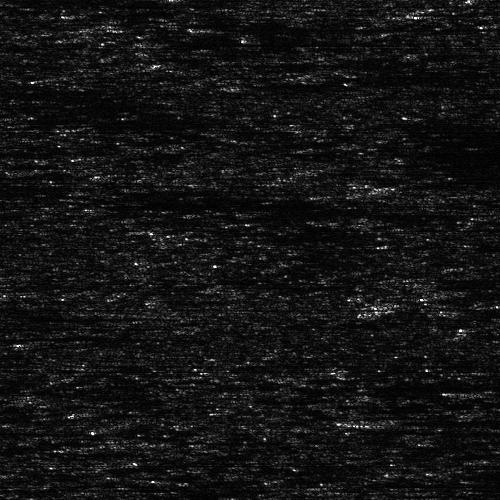rock: (253, 69, 346, 80), (426, 388, 489, 395), (171, 24, 234, 29), (198, 82, 251, 87), (106, 40, 147, 45)
shadow: (300, 69, 467, 80), (203, 24, 500, 29), (127, 40, 368, 45), (225, 82, 388, 87), (0, 323, 103, 330), (458, 388, 500, 395)
